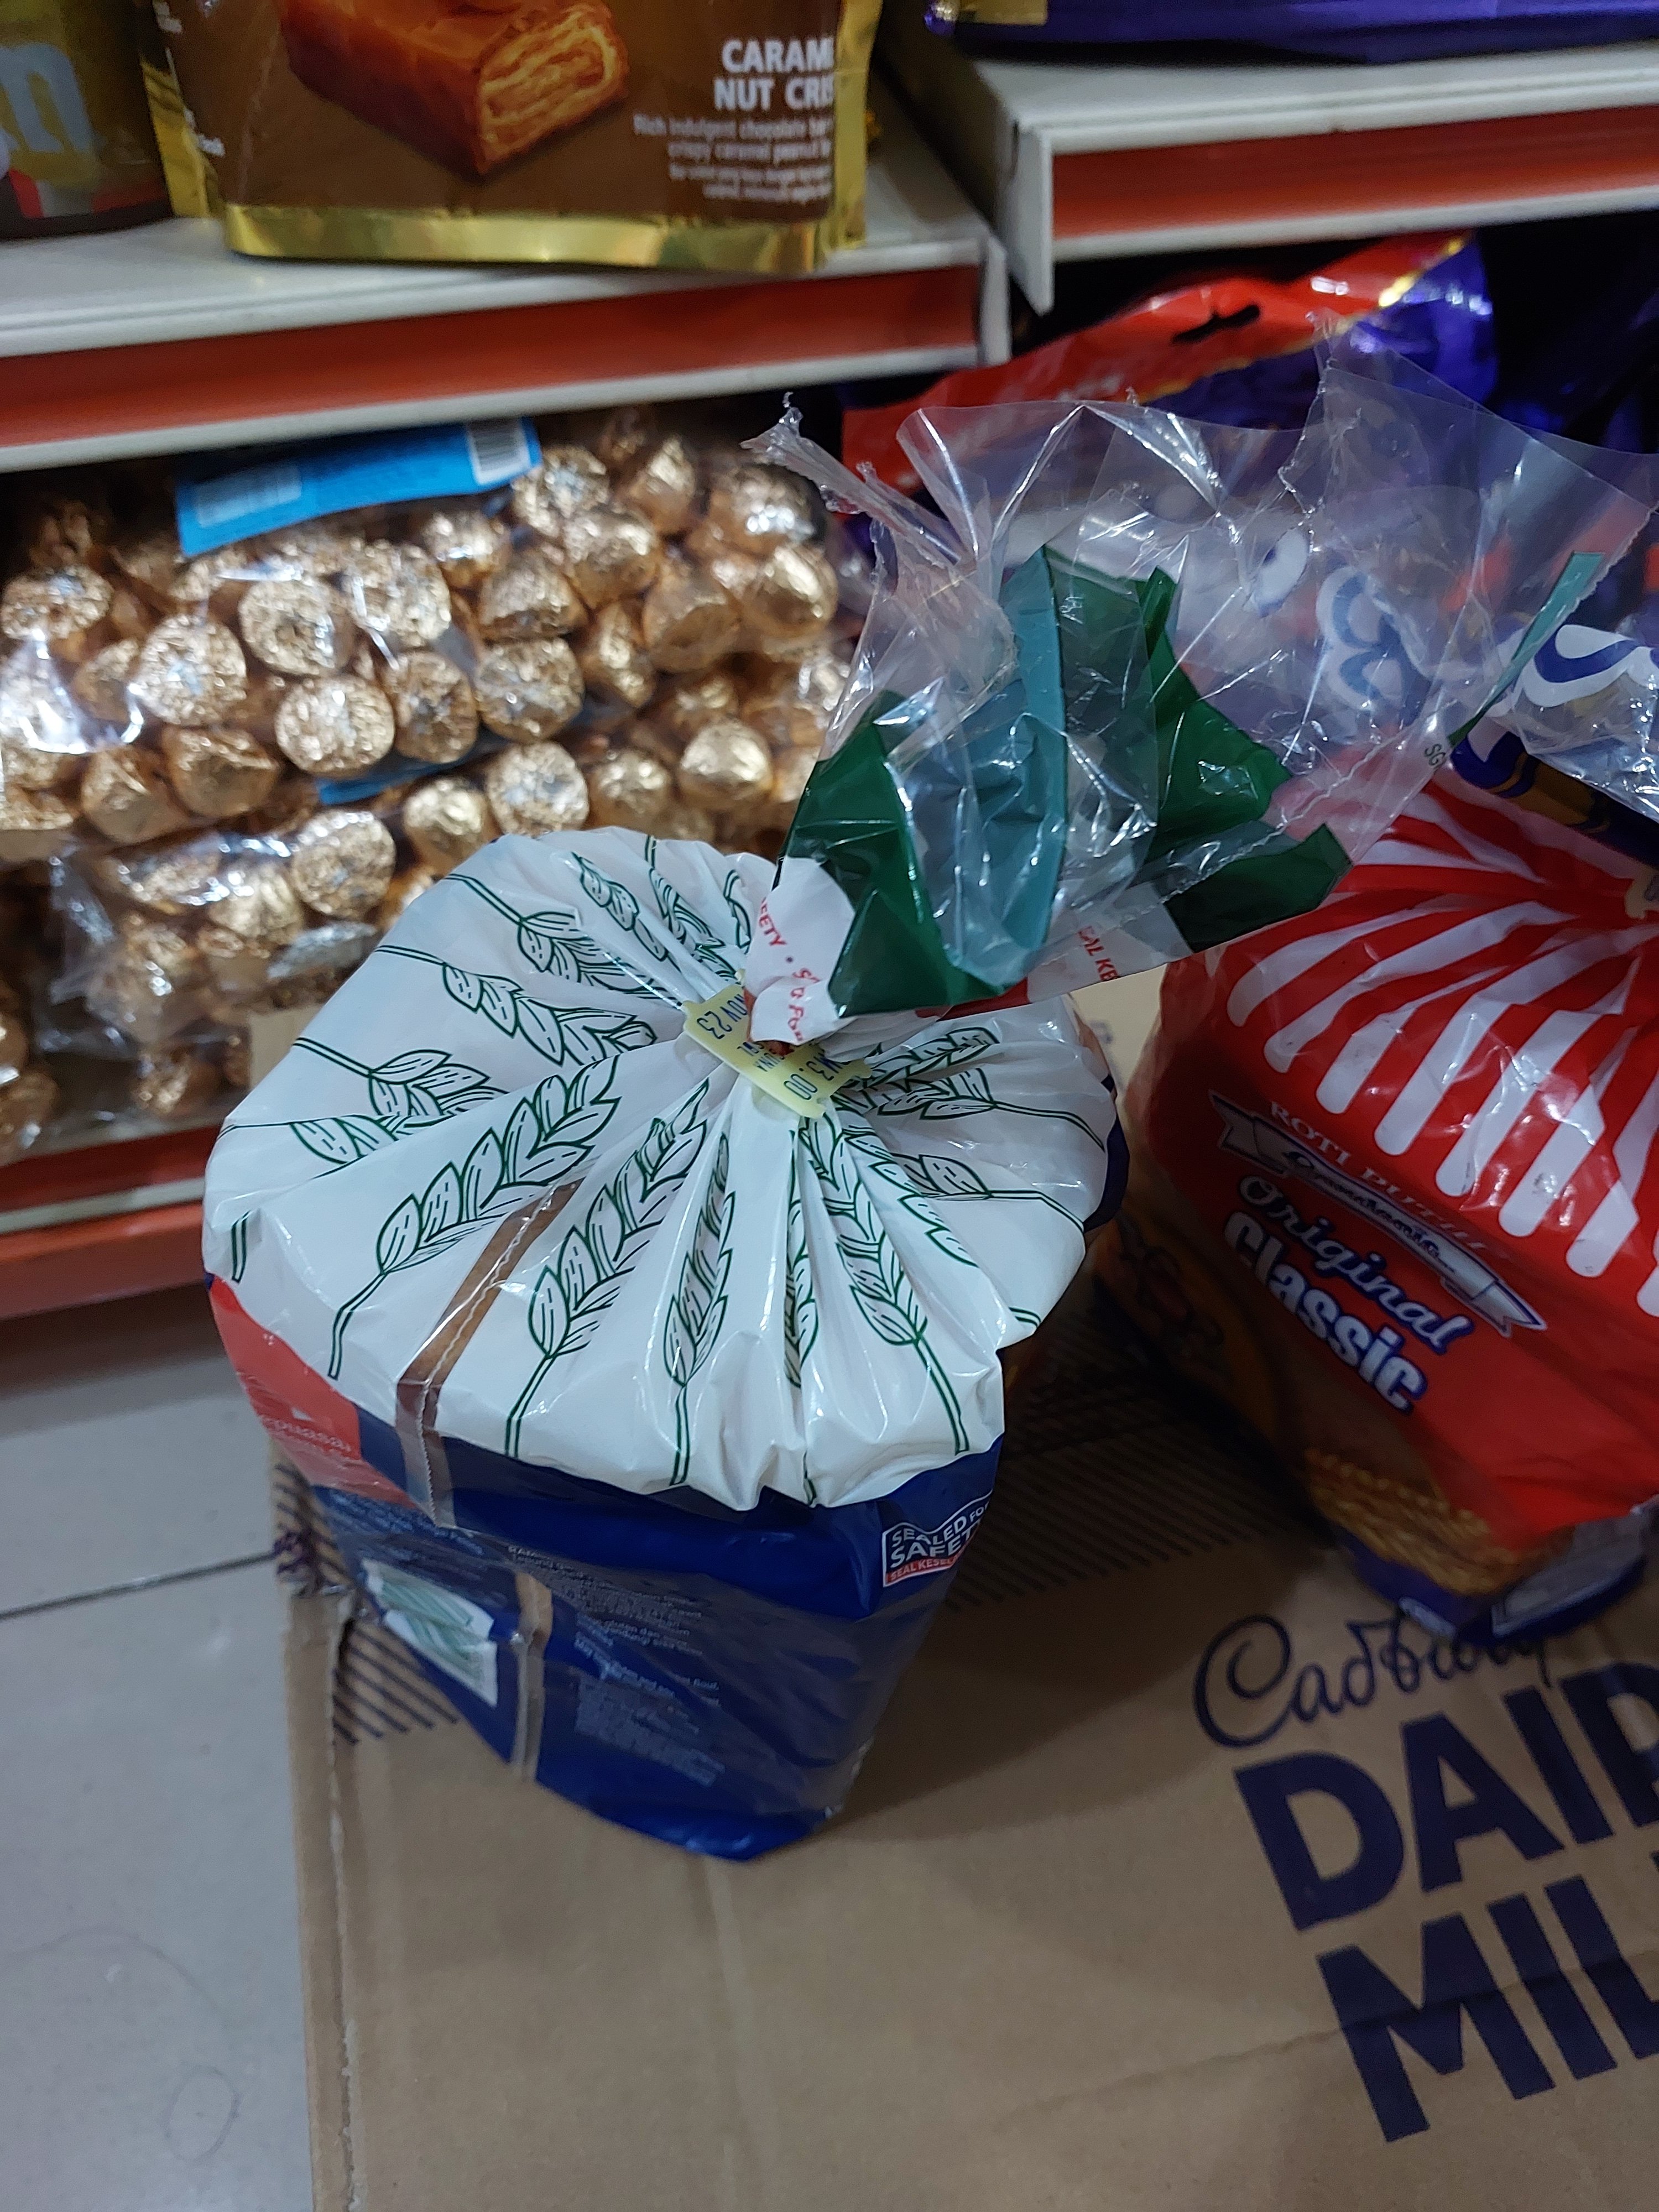bread: (186, 827, 1124, 1881), (1101, 542, 1659, 1637)
